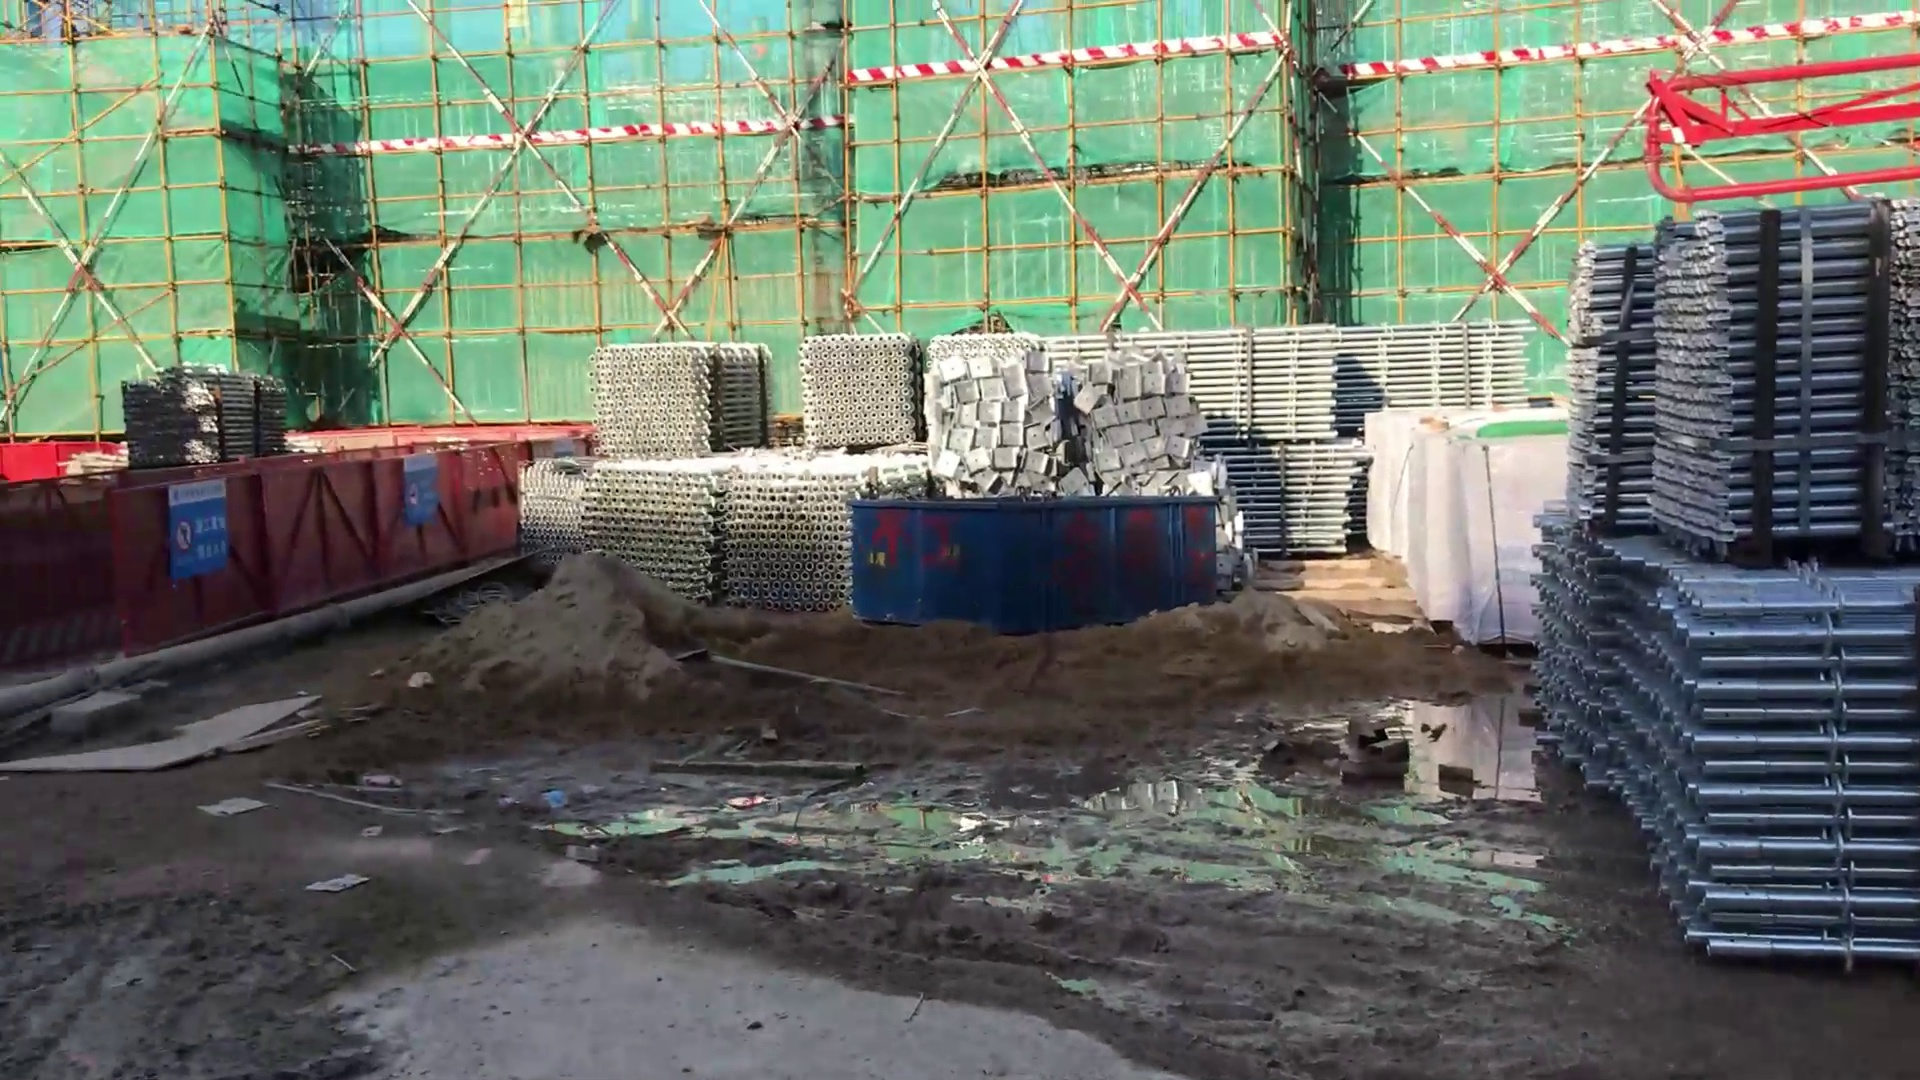fence: (260, 452, 518, 629)
hopper: (833, 479, 1236, 620)
scaffold: (1528, 524, 1920, 939), (1664, 222, 1892, 545), (1560, 245, 1683, 538), (95, 345, 277, 483), (578, 444, 732, 583), (585, 342, 754, 456), (800, 331, 956, 454), (1340, 324, 1552, 411), (708, 467, 845, 597), (1230, 444, 1370, 572), (1191, 334, 1349, 430)
slogan: (164, 513, 233, 574)
